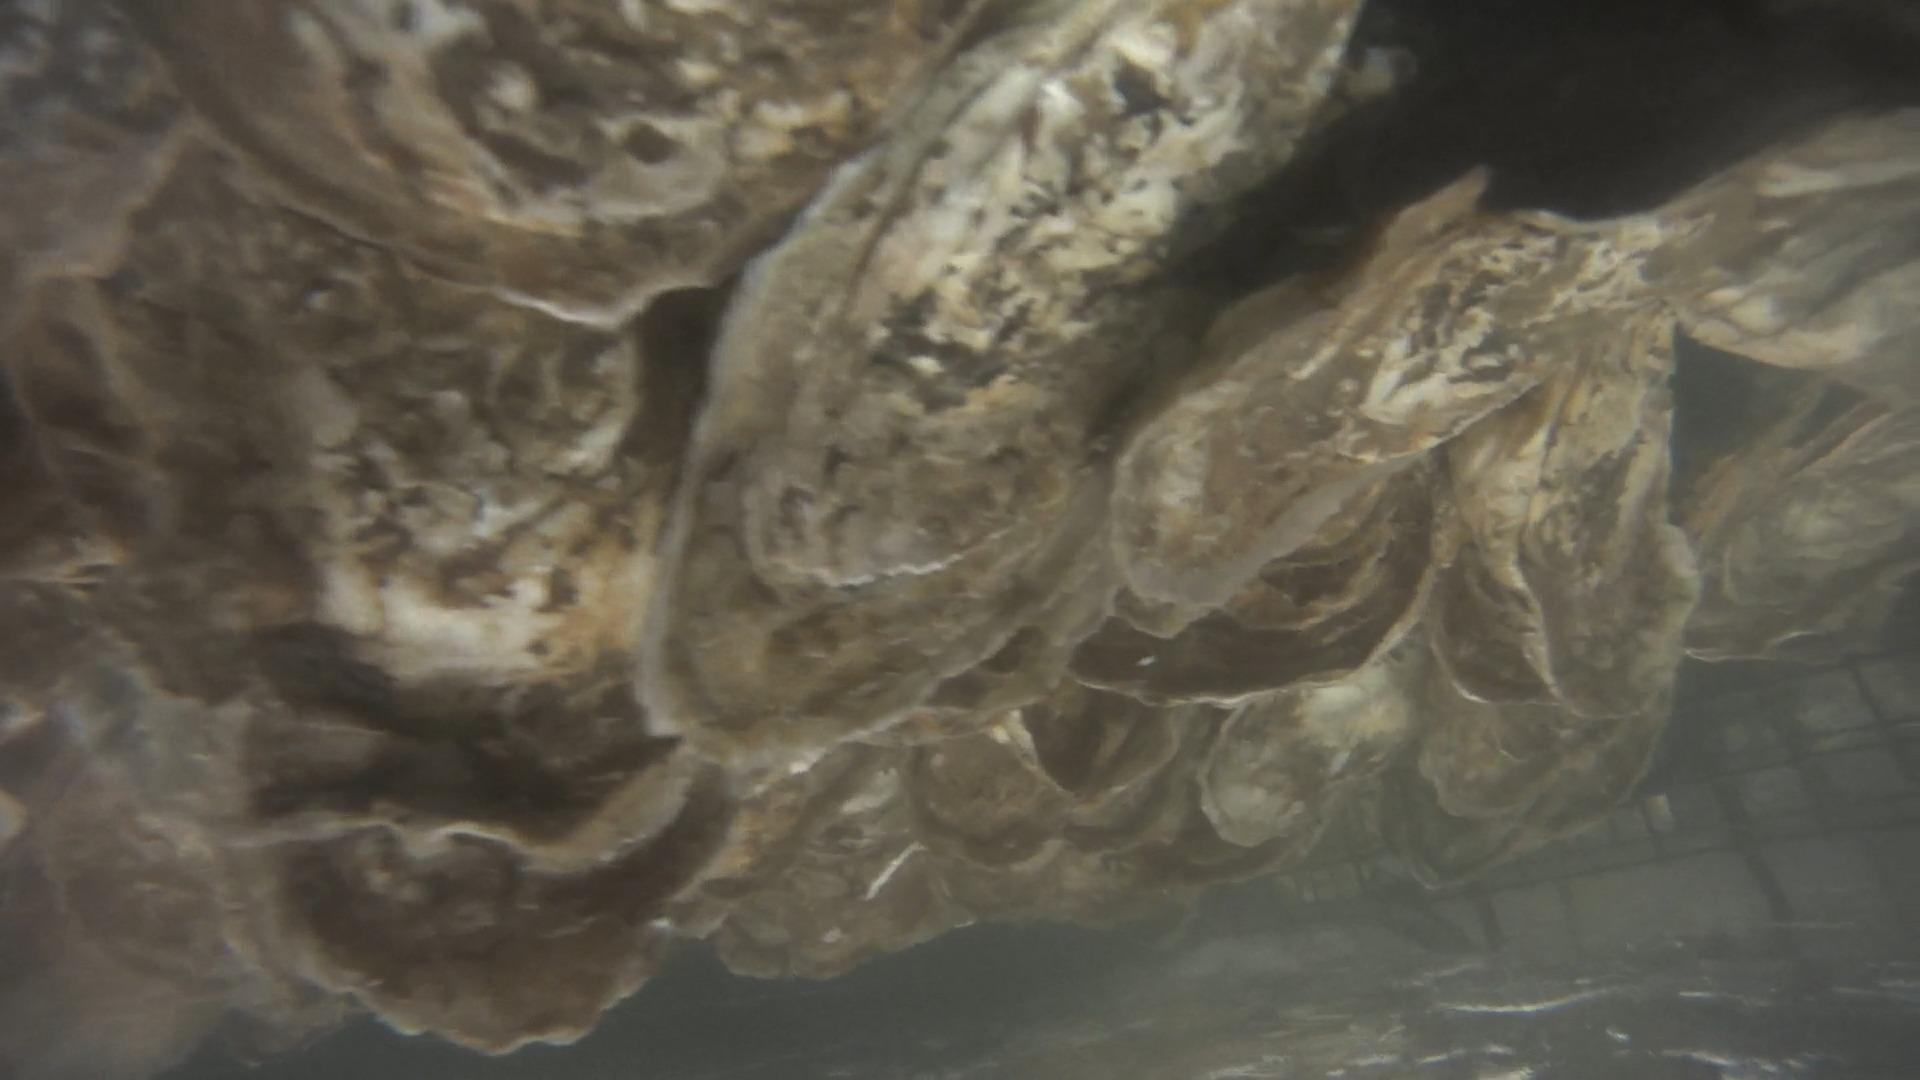3: (640, 1, 1358, 762), (124, 0, 968, 323), (1114, 173, 1663, 626), (1203, 647, 1420, 851)
Oyster-Closed: (1453, 316, 1702, 717)
Oyster-Open: (0, 120, 702, 836), (272, 750, 731, 1051), (1072, 465, 1433, 703), (1644, 107, 1920, 371), (1684, 376, 1920, 658)
